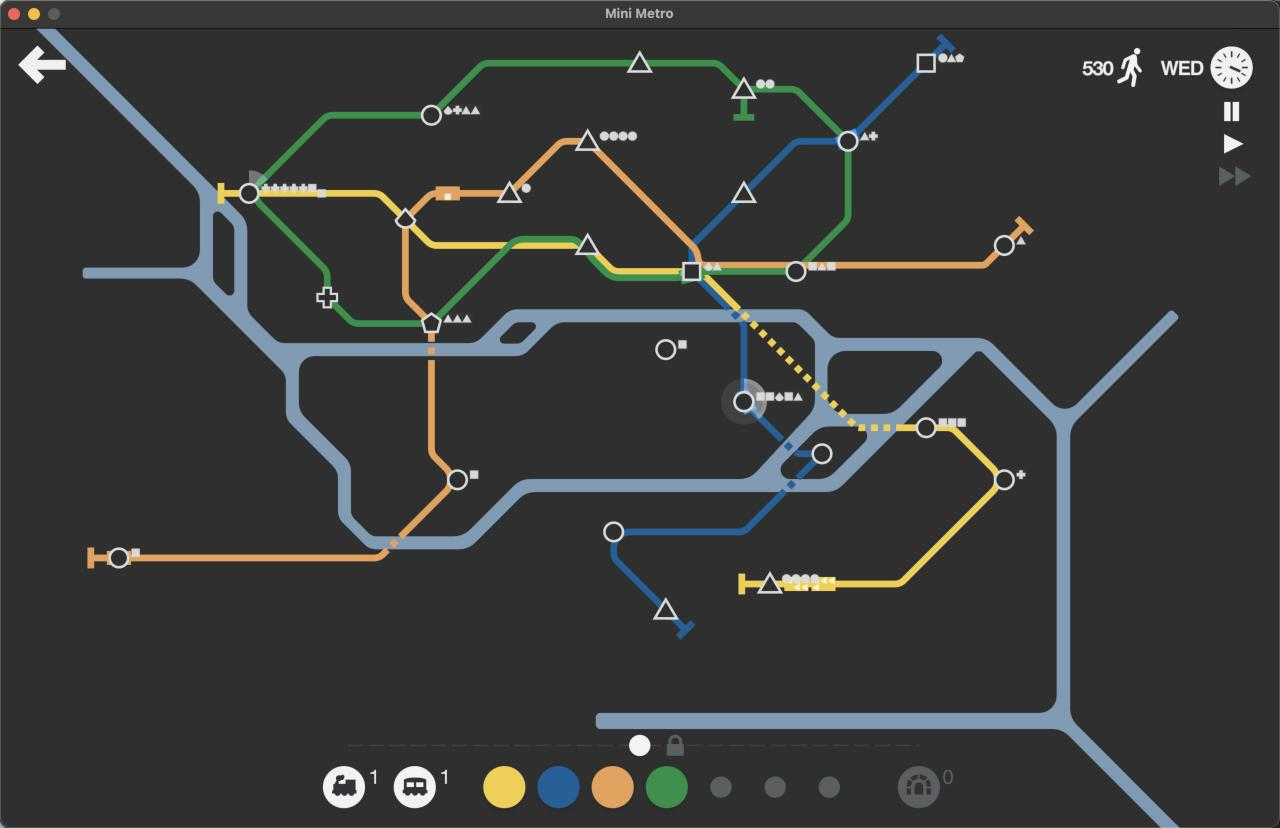CIRCLE: (732, 390, 756, 414), (420, 104, 442, 127), (837, 129, 859, 152), (993, 234, 1015, 257), (811, 443, 833, 466), (916, 416, 938, 439), (447, 468, 469, 491), (602, 521, 625, 543), (785, 261, 807, 283), (238, 182, 260, 204), (994, 469, 1016, 491), (655, 339, 677, 361), (108, 547, 131, 568)
CROSS: (316, 286, 338, 308)
PENTAGON: (420, 312, 442, 336)
SQUARE: (681, 261, 703, 283), (916, 53, 935, 73)
TRIANGLE: (626, 49, 652, 74), (653, 597, 680, 621), (731, 179, 756, 204), (574, 232, 600, 256), (497, 180, 523, 204), (731, 75, 757, 99), (574, 128, 601, 151), (756, 571, 782, 594)
WEDGE: (395, 207, 418, 229)
